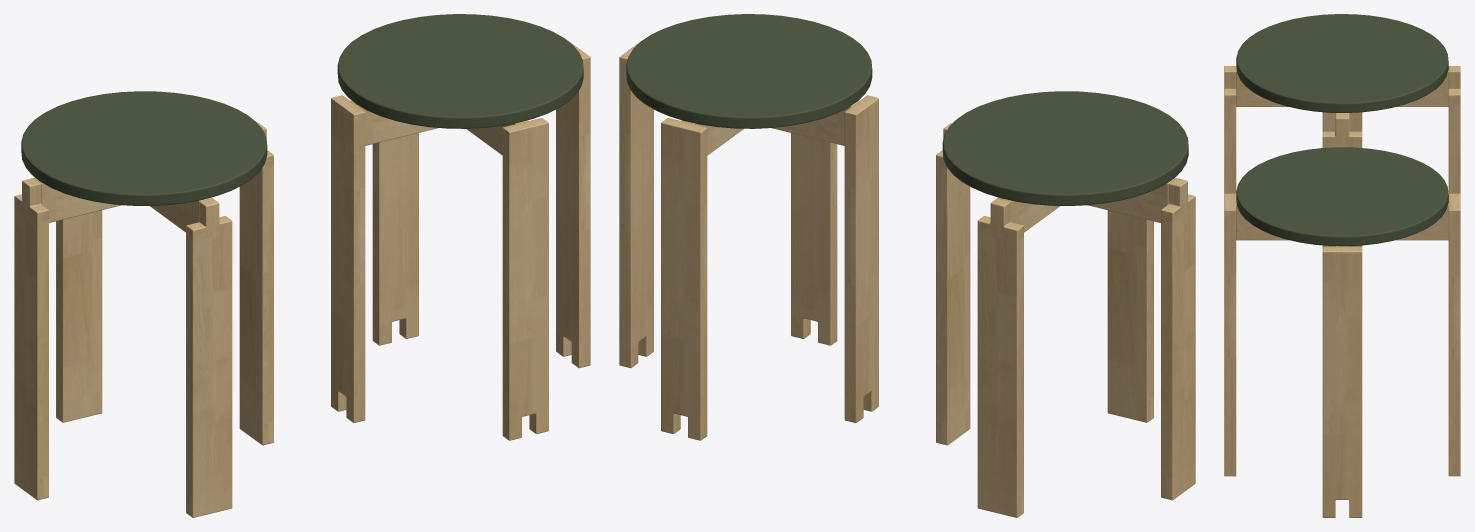
The model's file is kompishang_stoek_2_szt_10628760.glb.
The picture shows the model from 3 angles, left to right: view 1: azimuth 30°, elevation 25°; view 2: azimuth 150°, elevation 25°; view 3: azimuth 270°, elevation 25°; orthographic projection. The views are drawn at different scales.
Visible parts, largest first — view 1: kompishang_stoek_2_szt_10628760; view 2: kompishang_stoek_2_szt_10628760; view 3: kompishang_stoek_2_szt_10628760.
Boxes of the visible parts, <box> form: kompishang_stoek_2_szt_10628760: <box>14,14,590,517</box>; kompishang_stoek_2_szt_10628760: <box>619,14,1195,517</box>; kompishang_stoek_2_szt_10628760: <box>1224,14,1460,517</box>.
Size of the model in its own units: 0.831 by 0.46 by 0.356.
2 materials, 1 textured.
